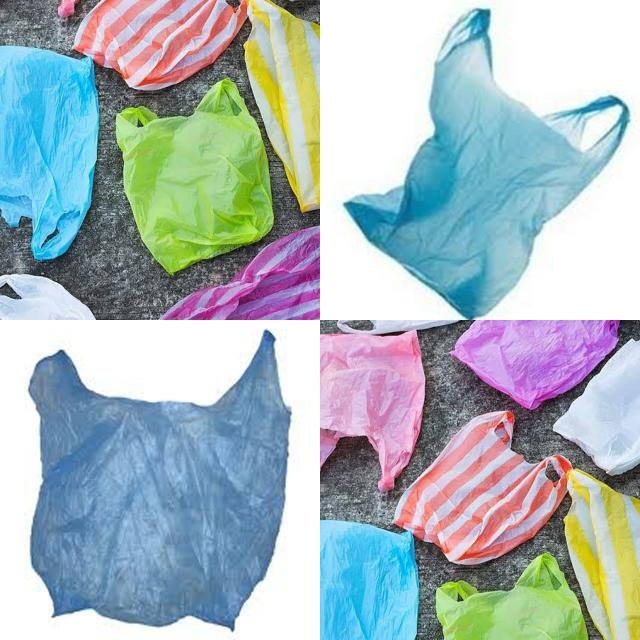Single-layer Plastic: (345, 9, 629, 319), (29, 331, 290, 629), (116, 79, 274, 272), (394, 411, 572, 565), (0, 46, 99, 260), (320, 331, 425, 491), (244, 0, 320, 211), (74, 0, 248, 90), (451, 320, 619, 409), (161, 226, 320, 320), (436, 552, 589, 640), (564, 470, 640, 640), (320, 520, 419, 639), (554, 339, 640, 475)
